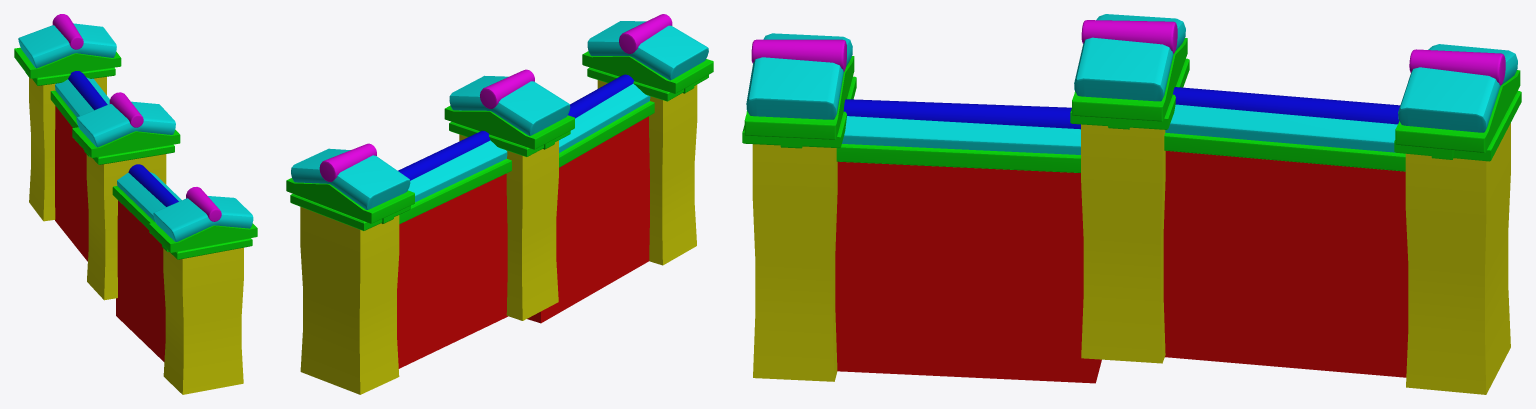
The model's file is smallGate Unity.fbx.
3 views of the same model, side by side, from view 1: azimuth 30°, elevation 25°; view 2: azimuth 150°, elevation 25°; view 3: azimuth 270°, elevation 25° (orthographic). The views are drawn at different scales.
Visible parts, largest first — view 1: smallGateUnity; view 2: smallGateUnity; view 3: smallGateUnity.
Part boxes in pixels (box(x1,y1,x2,y2)): smallGateUnity: box(14, 14, 257, 394); smallGateUnity: box(286, 14, 713, 394); smallGateUnity: box(742, 14, 1521, 394).
Size of the model in its own units: 4.36 by 5.89 by 11.84.
